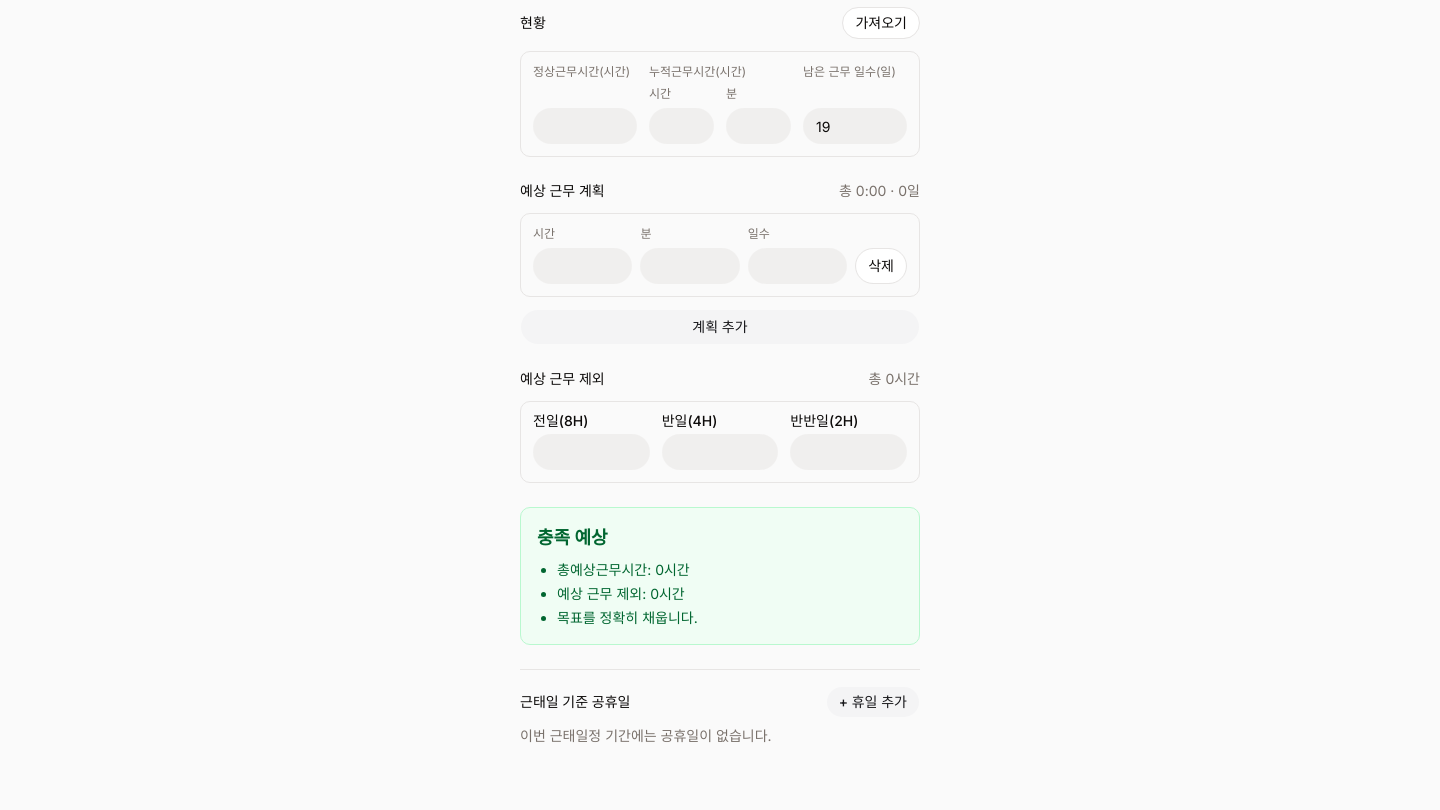
이름을 입력하지 않으면 오류를 보여주고 추가하지 않는다
The image size is (1440, 810).
(page scrolled)
Click the button "+ 휴일 추가" at (873, 702), box top-left (826, 686), bottom-right (920, 718)
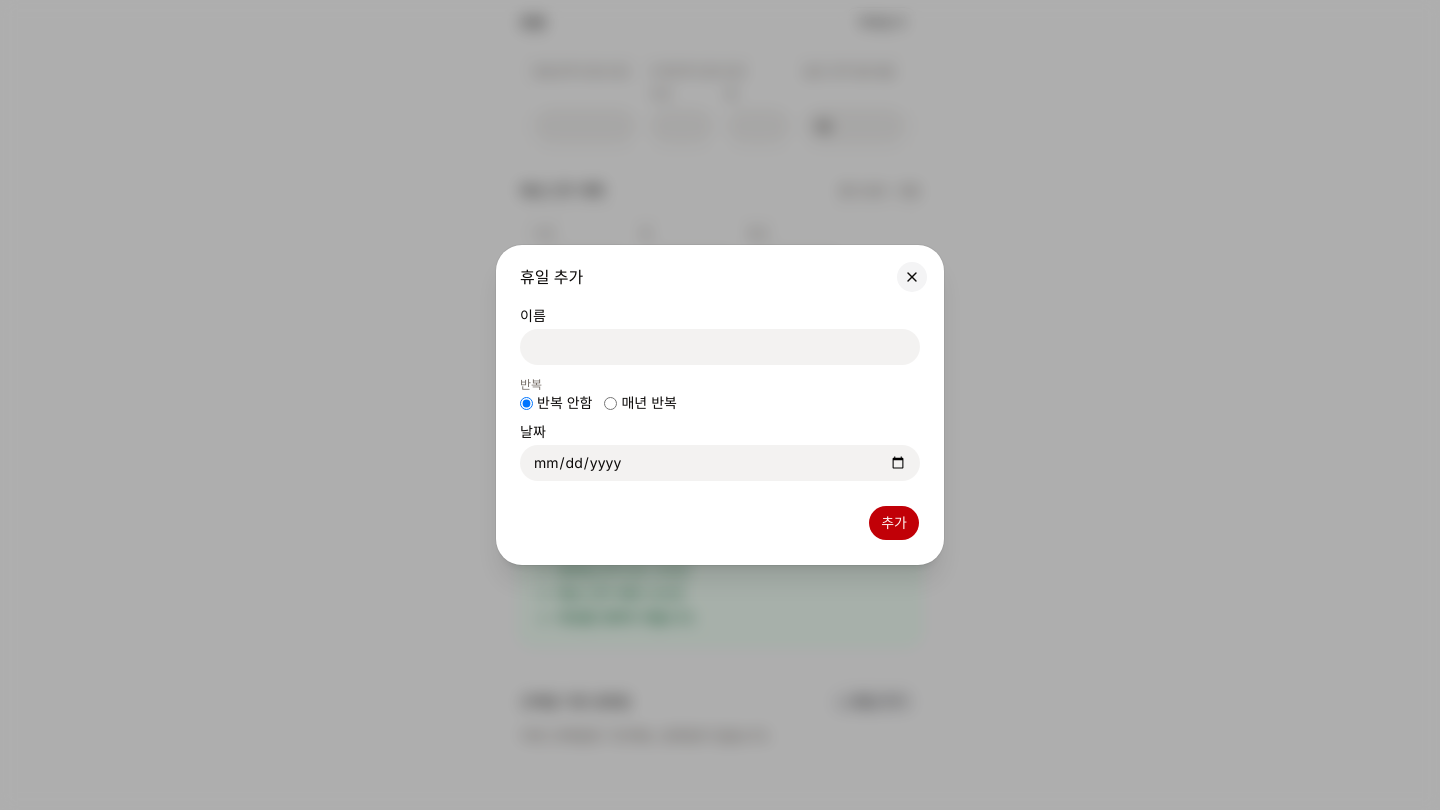
Type "2026-08-25" into the date field labelled "날짜" at (720, 463), box top-left (520, 445), bottom-right (920, 481)
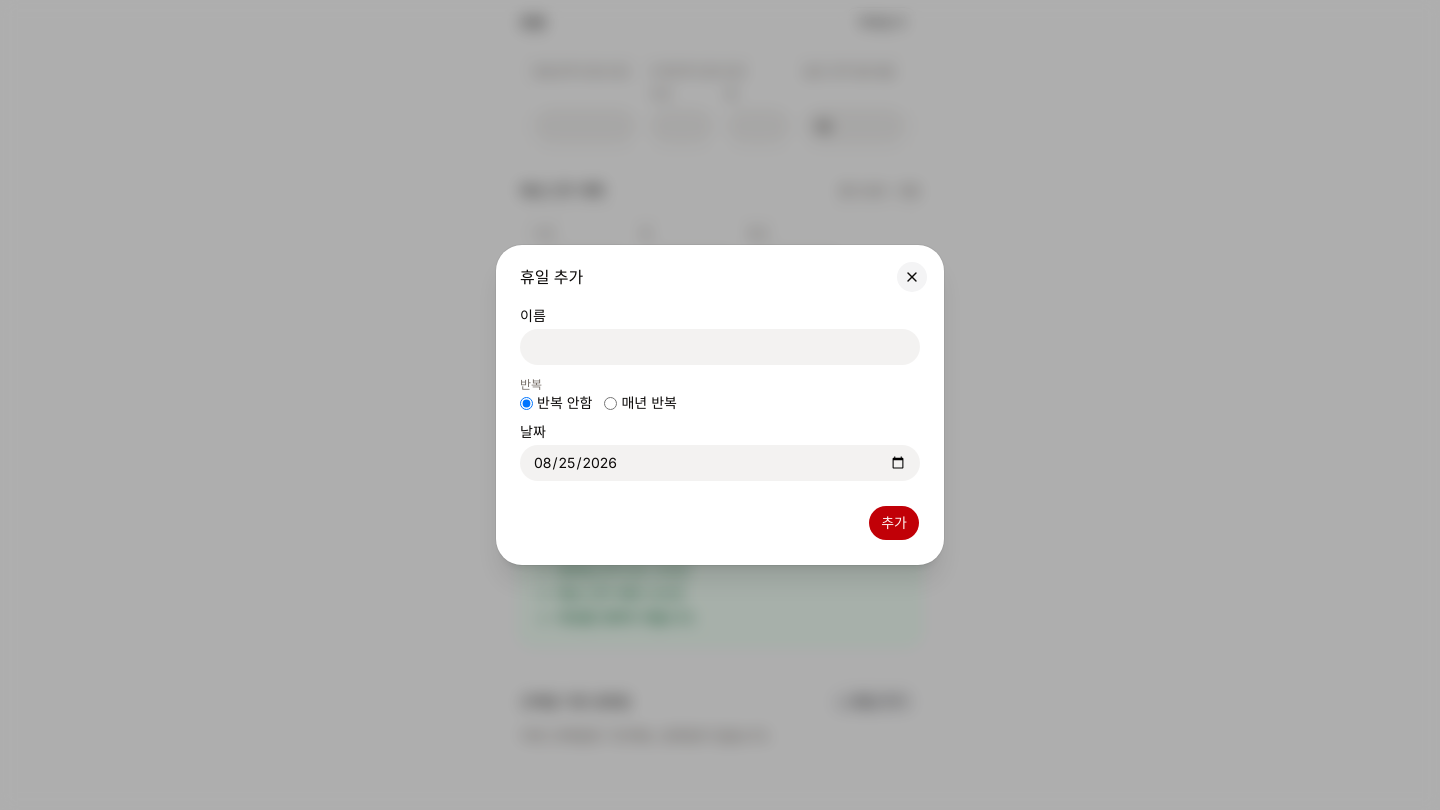
Click the button "추가" at (894, 523), box top-left (868, 505), bottom-right (920, 541)
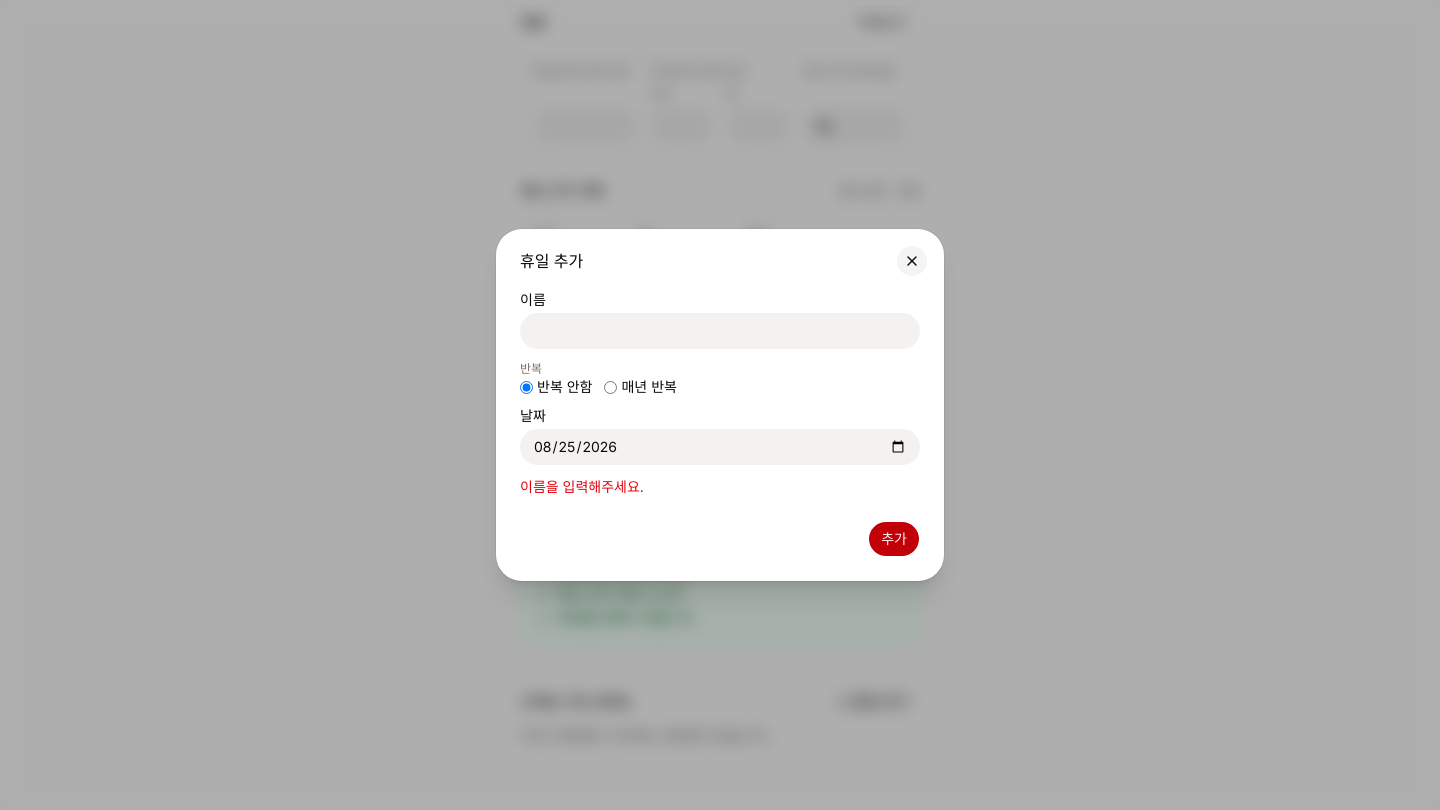
Check: the heading "휴일 추가" is shown, box top-left (520, 251), bottom-right (583, 271)
Check: the message reads "이름을 입력해주세요.", box top-left (520, 478), bottom-right (644, 495)
